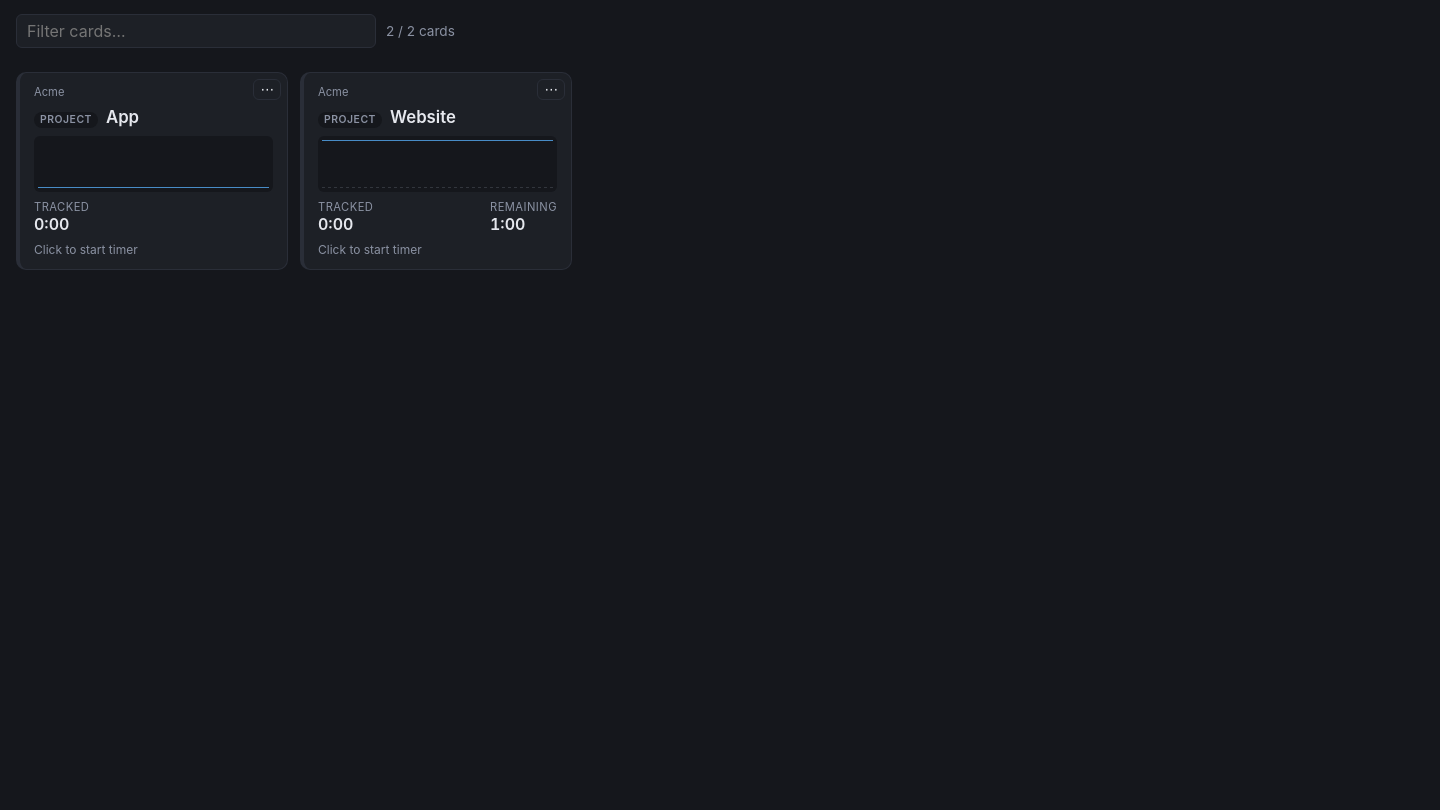
it: DashboardComponent › regression: "Log time…" opens the editor with focus in it, synchronously
Click the button named "More actions for Website" at (551, 90), box [537,79,565,100]
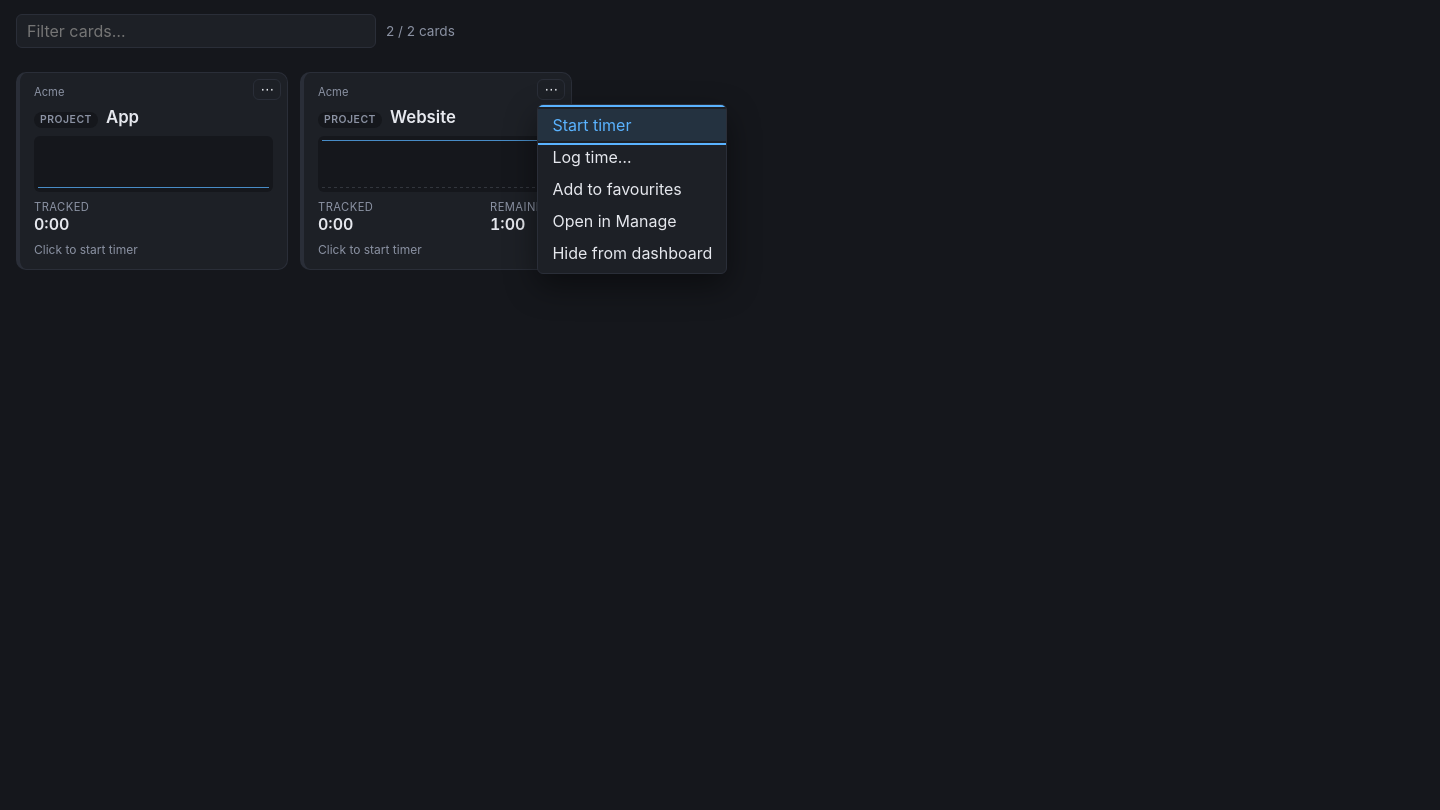
Click the menu item "Log time…" at (632, 157), box [538,141,726,173]
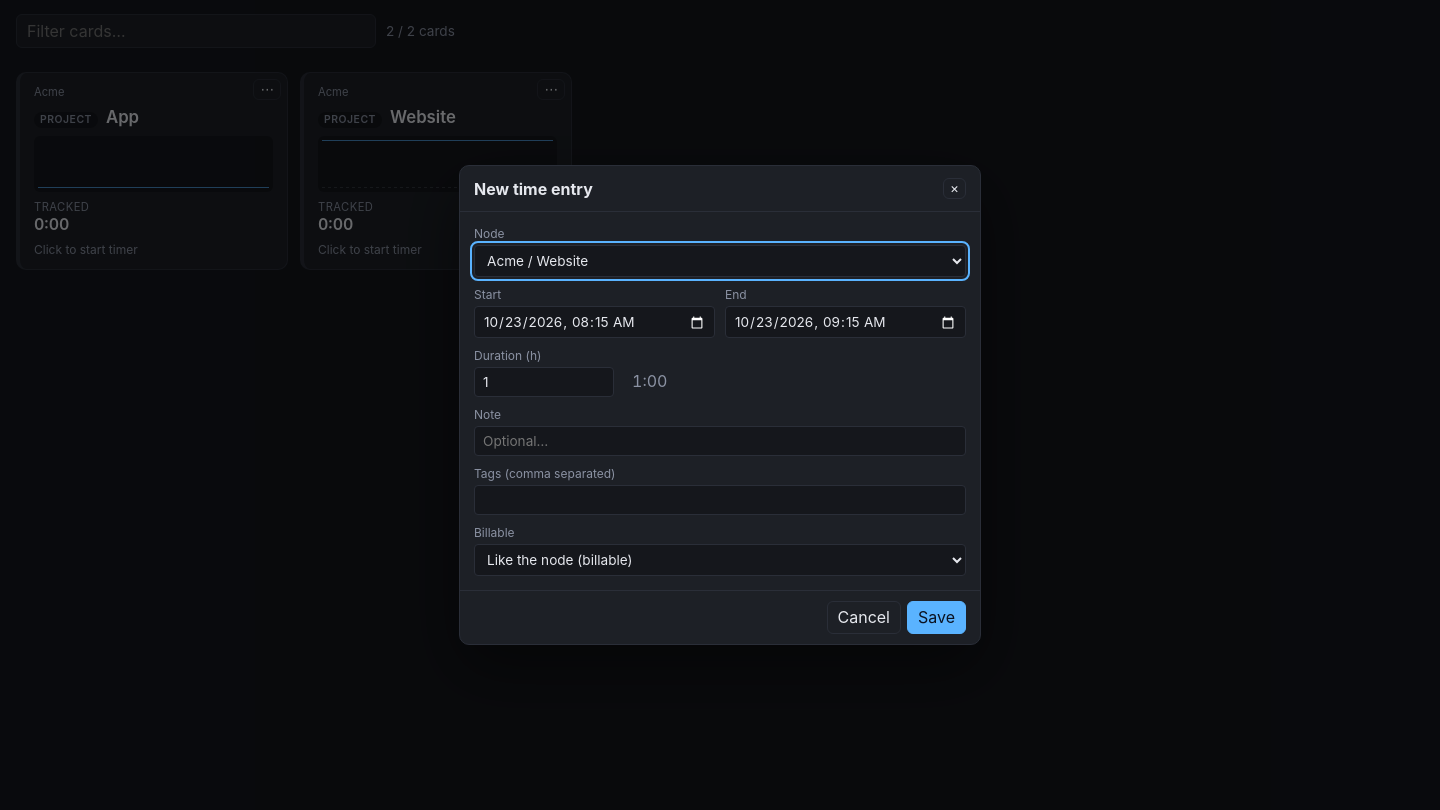
Check: the dialog is shown, box [459,165,981,645]
